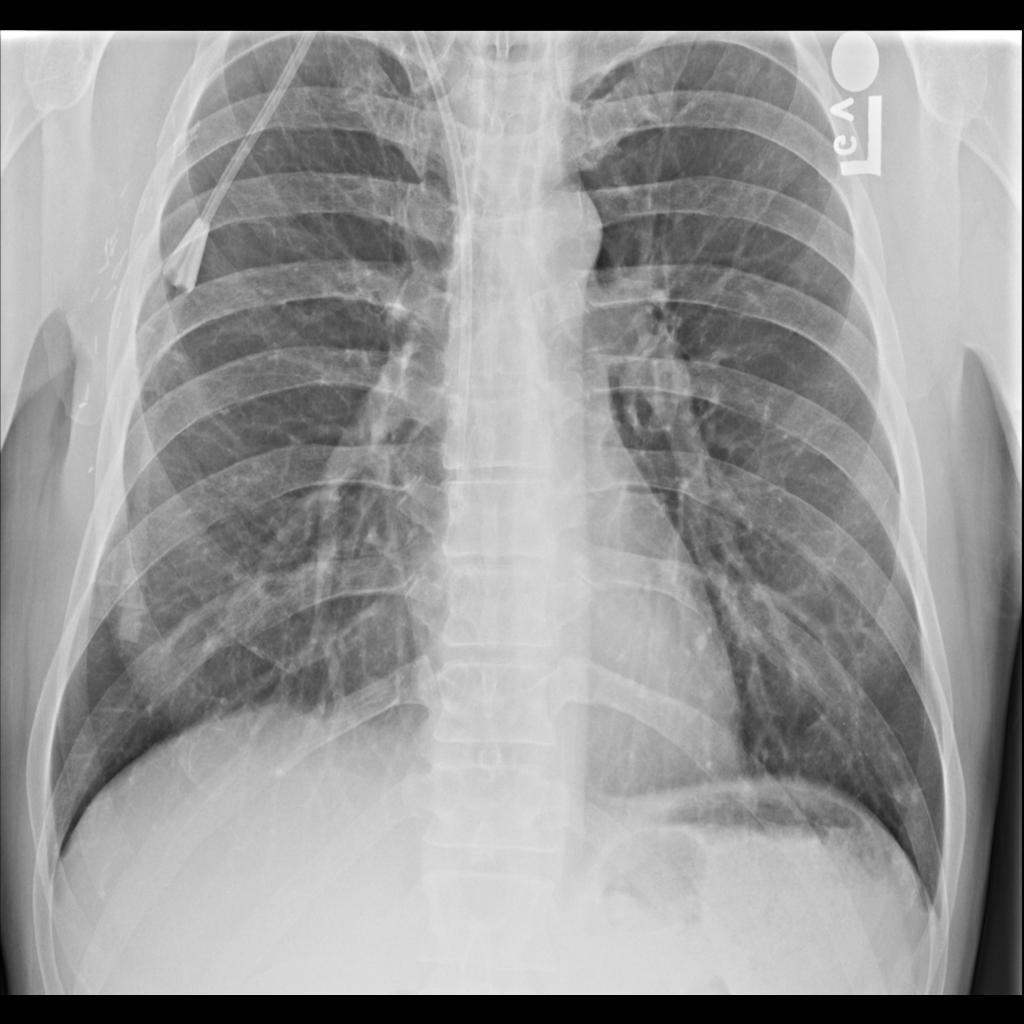Nodule: (891, 780, 923, 812)
